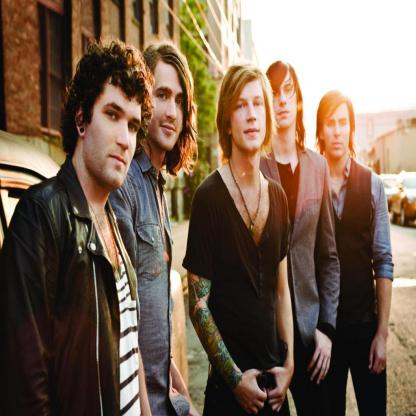face: (85, 80, 142, 190), (146, 66, 184, 150), (231, 83, 267, 152), (267, 73, 297, 128), (326, 106, 350, 158)
